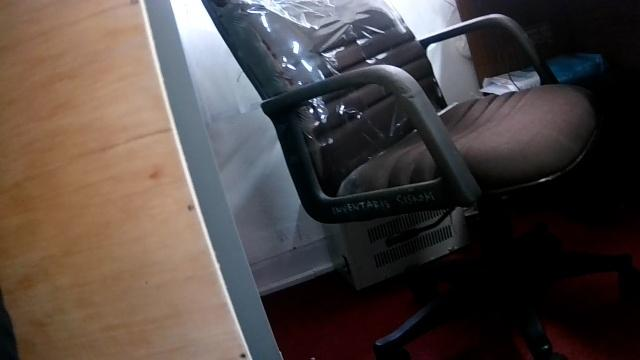Kursi: (201, 0, 596, 359)
